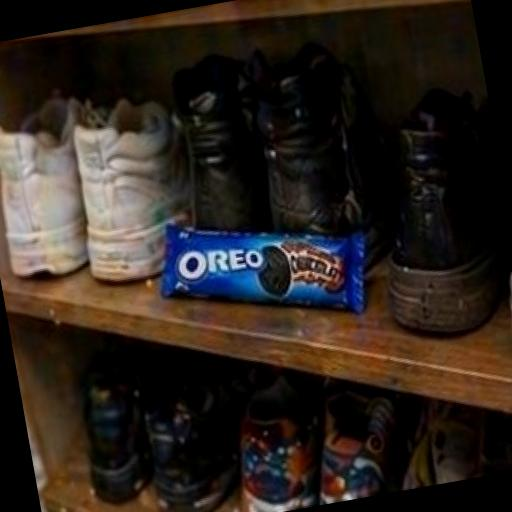oreo: (119, 126, 409, 397)
